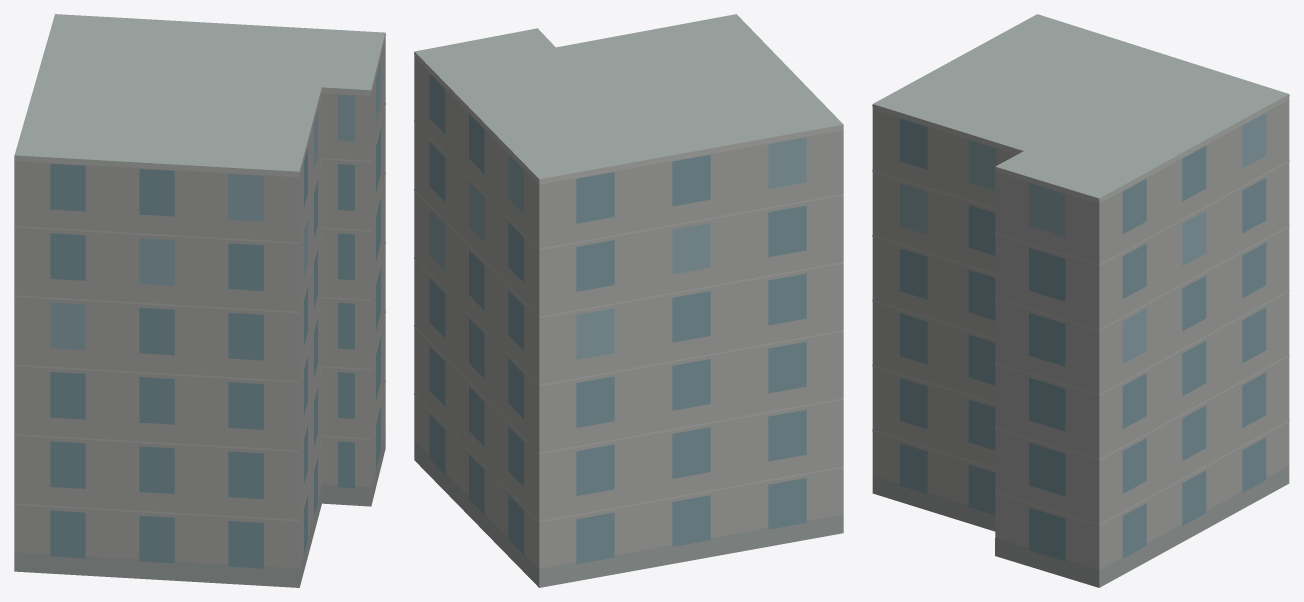
The model's file is survey-upis-32660285.glb.
3 views of the same model, side by side, from view 1: azimuth 30°, elevation 25°; view 2: azimuth 150°, elevation 25°; view 3: azimuth 270°, elevation 25° (orthographic). The views are drawn at different scales.
Parts seen in each view (by area): view 1: survey-upis-32660285.tmp; view 2: survey-upis-32660285.tmp; view 3: survey-upis-32660285.tmp.
Part boxes in pixels (x1=…): survey-upis-32660285.tmp: x1=14, y1=14, x2=385, y2=587; survey-upis-32660285.tmp: x1=414, y1=14, x2=843, y2=587; survey-upis-32660285.tmp: x1=872, y1=14, x2=1289, y2=587.
Bounding box in the file's own units: 18.01 × 17.7 × 17.19.
